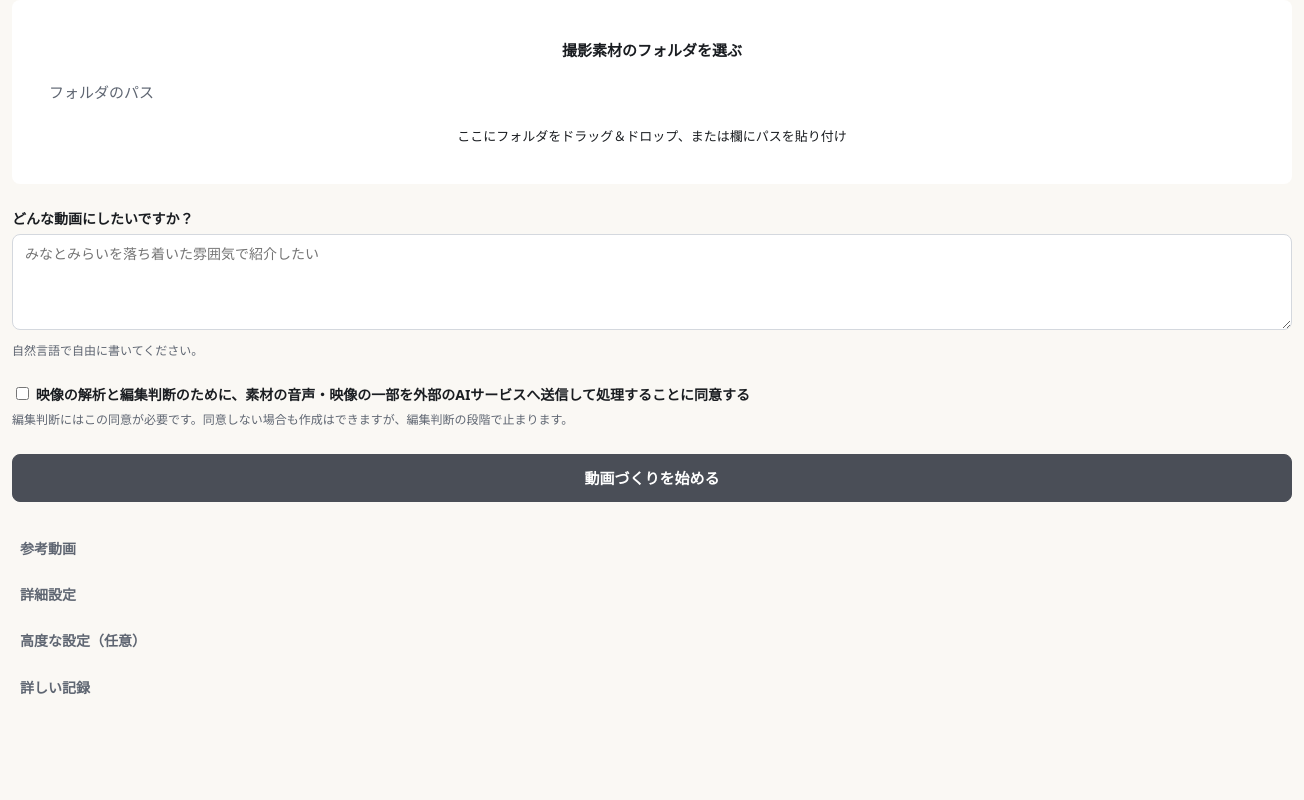
IntakeForm（編集許可の明示 F） › 同意チェックと言葉（音声・映像の一部）を示し、未同意では短い注意を出す
Expected: the text "映像の解析と編集判断のために、素材の音声・映像の一部を外部のAIサービスへ送信して処理することに同意する" is shown, [16,385,750,404]
Expected: the text with test id "editorial-grant-hint" shows "編集判断にはこの同意が必要です", [12,411,573,428]
Click the checkbox with test id "editorial-grant": {"x": 22, "y": 394} [16,387,29,400]
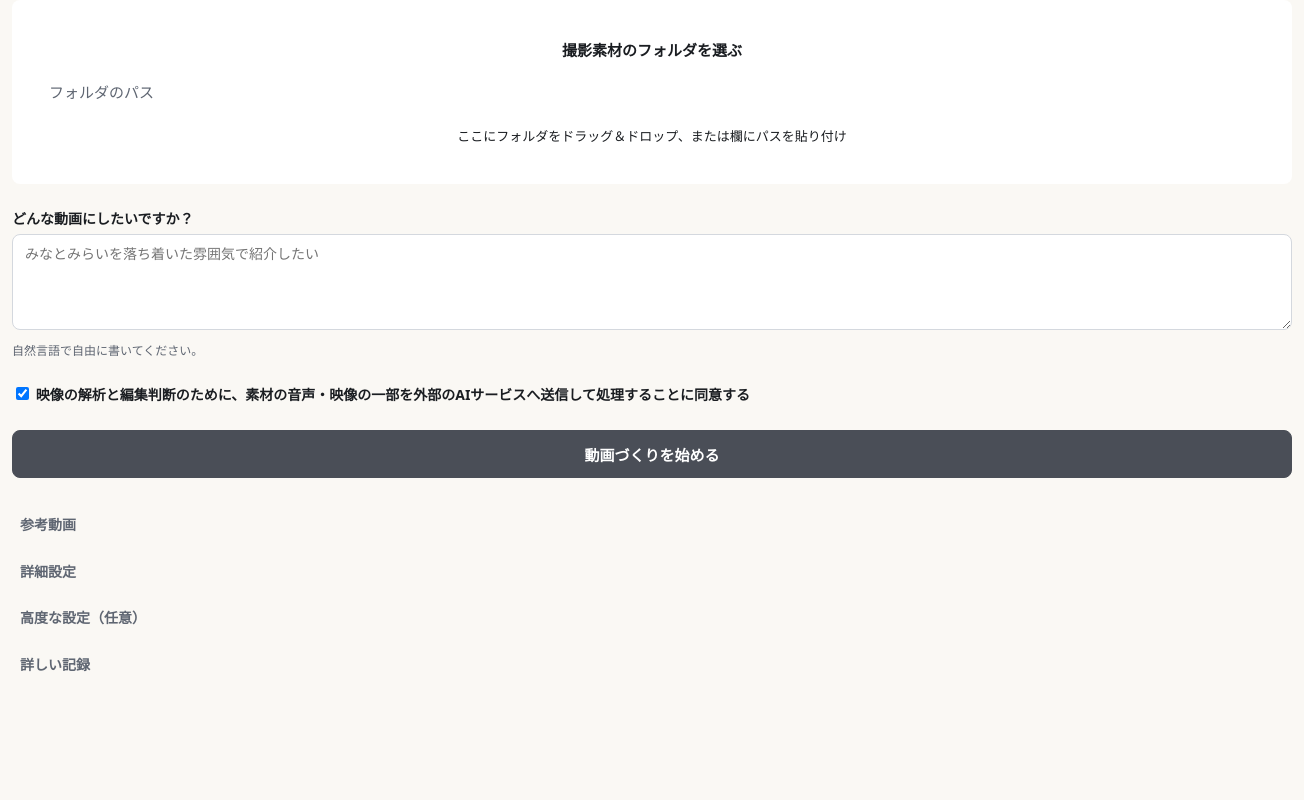
Expected: the checkbox with test id "editorial-grant" is checked, [16,387,29,400]
Expected: the text with test id "editorial-grant-hint" is gone
